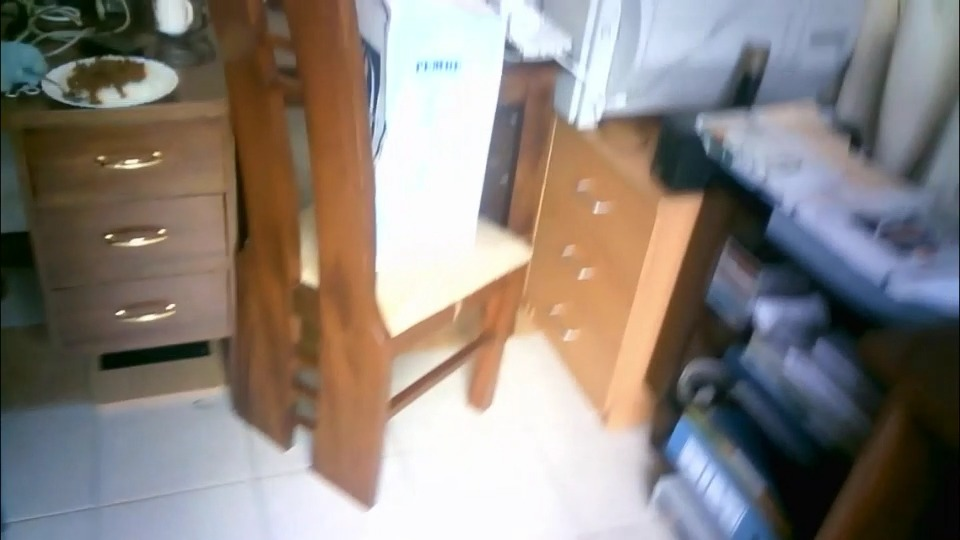wheat_flour_blue_label: (358, 7, 498, 292)
